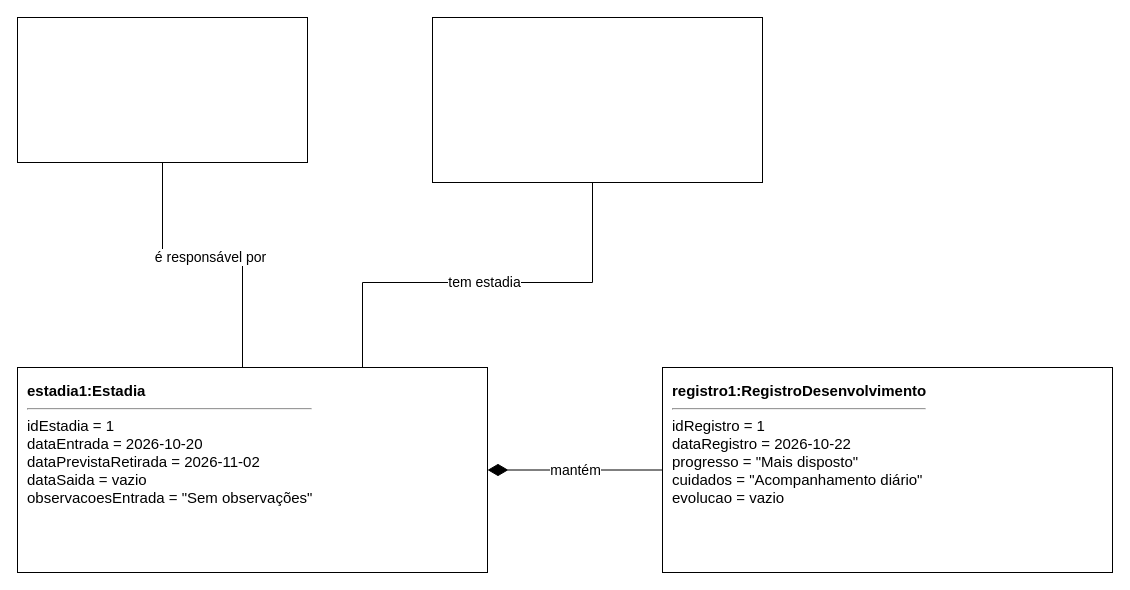
Image size: 1130x590. Some labels were removed from this diagram. Each missing label, with the centre of its shape:
ana:Treinador idTreinador = 1 nome = "Ana": point 162,89
pikachu:Pokemon idPokemon = 1 nome = "Pikachu" tipo = "Elétrico": point 597,99
